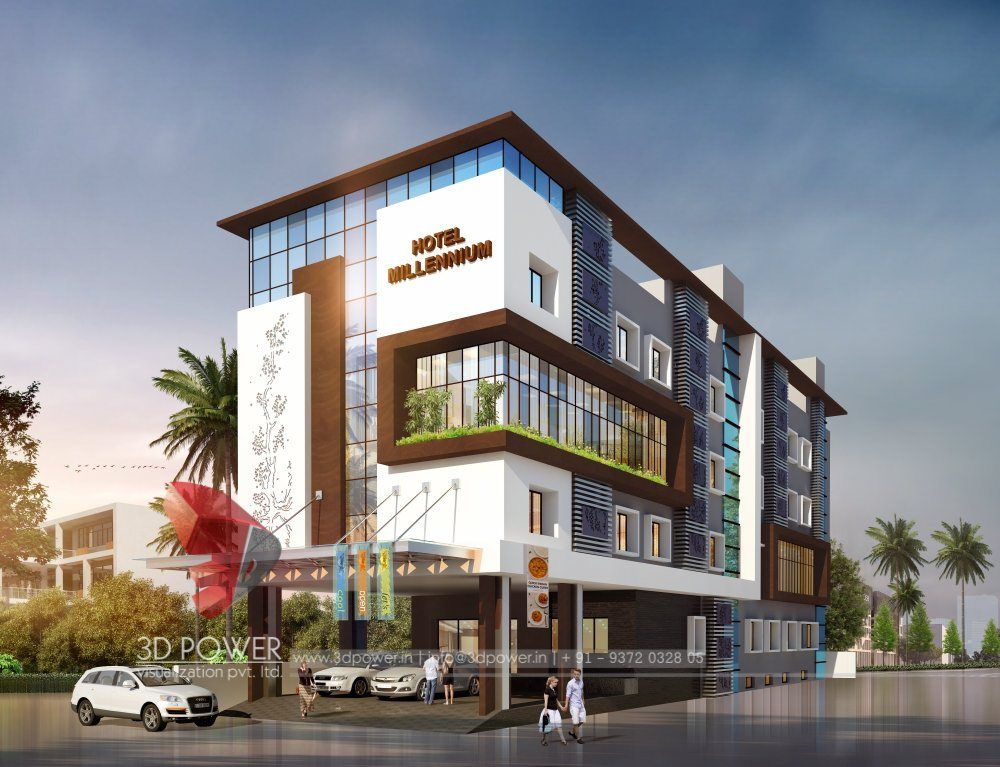Building House: (216, 130, 851, 694)
